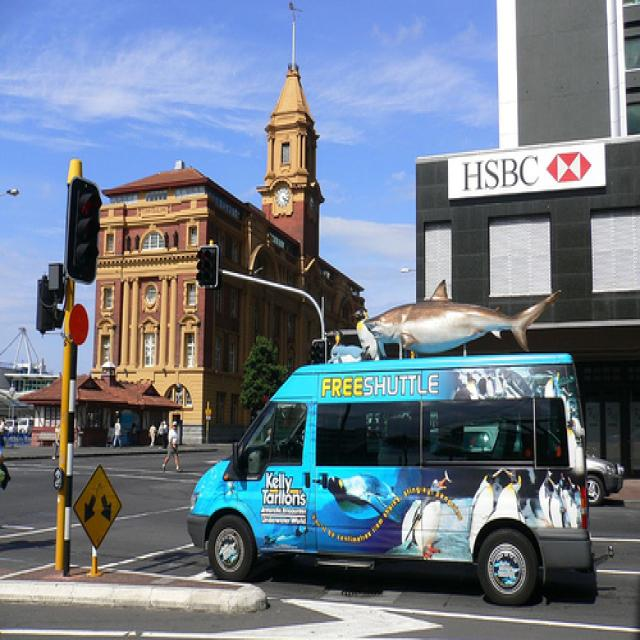light_vehicle: (185, 350, 592, 607)
